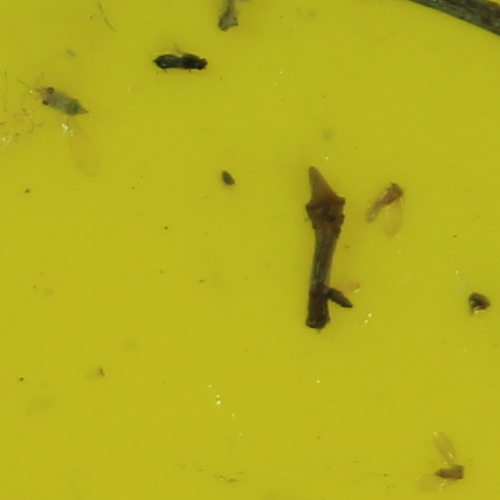Glycaspis: (39, 86, 91, 117)
Platyobria: (436, 463, 465, 484), (382, 182, 404, 209)
